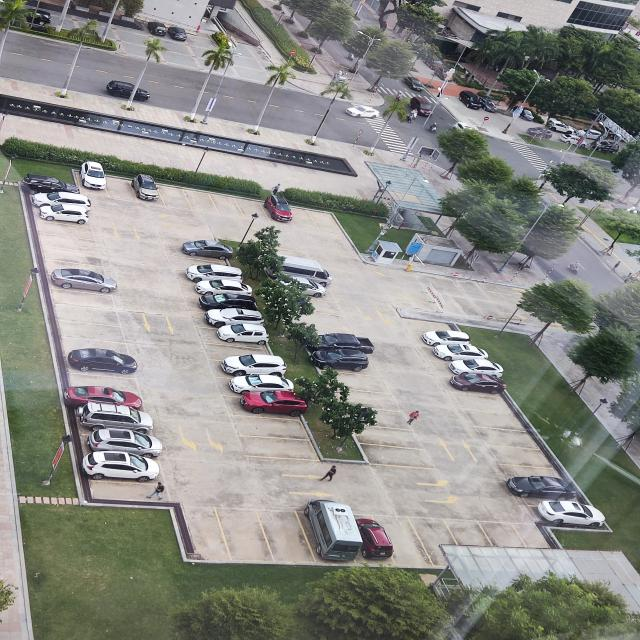car: (305, 500, 362, 561), (82, 451, 158, 482), (87, 429, 163, 458), (77, 402, 153, 431), (266, 255, 333, 286), (537, 500, 605, 528), (63, 386, 142, 410), (240, 390, 308, 416), (68, 349, 137, 374), (507, 476, 578, 500), (50, 269, 117, 294), (222, 354, 287, 376), (357, 519, 393, 558), (228, 374, 295, 394), (308, 334, 375, 354), (310, 349, 368, 371), (450, 372, 507, 394), (203, 308, 265, 328), (23, 174, 80, 194), (32, 191, 92, 210), (433, 341, 488, 361), (198, 292, 258, 310), (217, 324, 268, 345), (448, 359, 503, 378), (185, 264, 243, 282), (280, 276, 327, 298), (182, 240, 233, 260), (40, 204, 88, 224), (195, 279, 253, 295), (422, 330, 472, 346), (80, 161, 107, 189), (263, 195, 292, 221), (130, 175, 158, 200)
freeslot: (473, 519, 546, 572), (253, 508, 320, 565), (211, 507, 278, 563), (369, 514, 438, 568), (441, 519, 510, 571), (405, 517, 473, 569), (507, 522, 570, 573), (181, 504, 234, 561), (227, 414, 312, 442), (236, 434, 321, 462), (347, 423, 429, 452), (335, 403, 416, 432), (328, 385, 407, 414), (359, 442, 437, 471), (65, 370, 144, 397), (88, 479, 174, 502), (55, 319, 131, 345), (51, 302, 124, 328), (486, 443, 556, 470), (59, 335, 134, 360), (474, 424, 543, 451), (320, 370, 394, 395), (281, 307, 355, 332), (275, 294, 348, 318), (462, 407, 529, 433), (50, 287, 119, 312), (450, 390, 516, 416), (38, 231, 104, 255), (41, 244, 106, 268), (37, 219, 99, 242), (202, 342, 271, 362), (154, 183, 195, 213), (207, 193, 249, 221), (292, 322, 357, 340), (102, 174, 141, 204), (180, 189, 221, 217), (498, 463, 564, 480), (403, 317, 460, 336), (167, 254, 230, 271), (257, 246, 316, 264), (232, 198, 272, 224), (305, 210, 346, 235), (286, 205, 323, 232), (162, 231, 220, 246)
